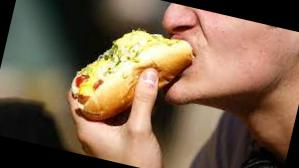Completos: (62, 17, 196, 140)
